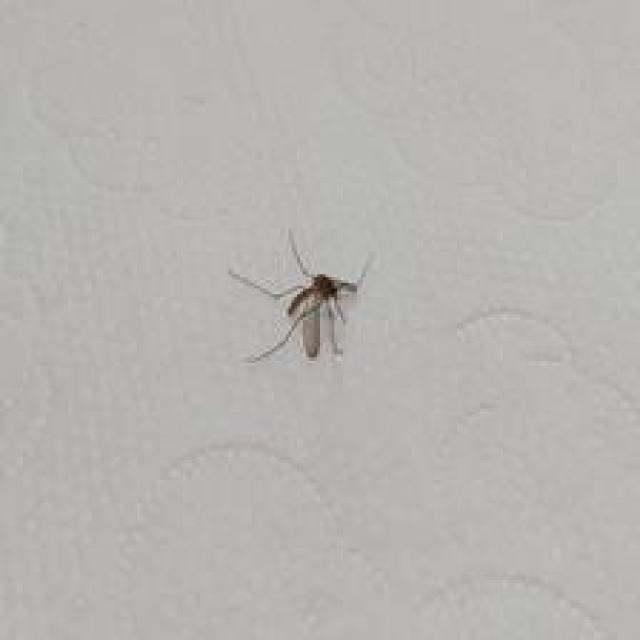Culex: (227, 227, 376, 364)
